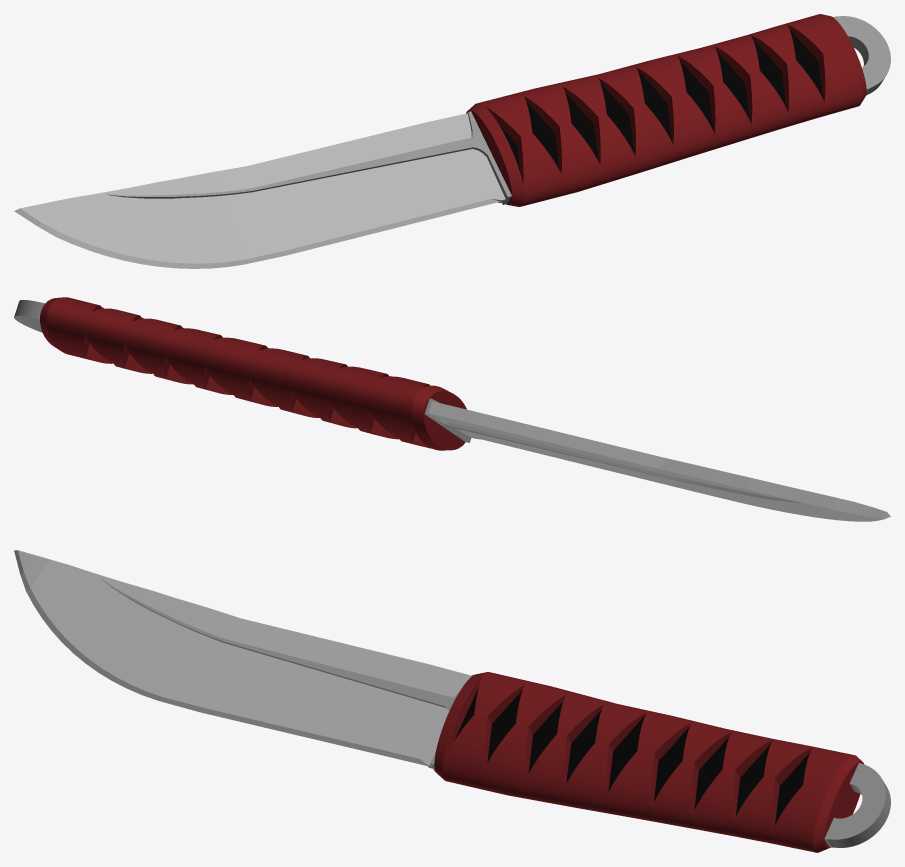
Rendered from ТАНТО.gltf.
3 views of the same model, one above another, from view 1: azimuth 30°, elevation 25°; view 2: azimuth 150°, elevation 25°; view 3: azimuth 330°, elevation 25° (orthographic). The views are drawn at different scales.
Visible parts, largest first — view 1: Plane.001, Cylinder, Plane.002, Plane; view 2: Cylinder, Plane.001, Plane; view 3: Plane.001, Cylinder, Plane.002, Plane.
Boxes of the visible parts, <box> form: Plane.001: <box>14,113,505,268</box>; Cylinder: <box>466,14,866,206</box>; Plane.002: <box>498,28,822,173</box>; Plane: <box>106,16,890,204</box>; Cylinder: <box>40,297,466,450</box>; Plane.001: <box>428,401,890,521</box>; Plane: <box>14,300,800,502</box>; Plane.001: <box>14,550,470,768</box>; Cylinder: <box>434,672,863,852</box>; Plane.002: <box>454,688,810,825</box>; Plane: <box>100,577,890,847</box>.
Size of the model in its own units: 29.51 by 2.66 by 3.15.
